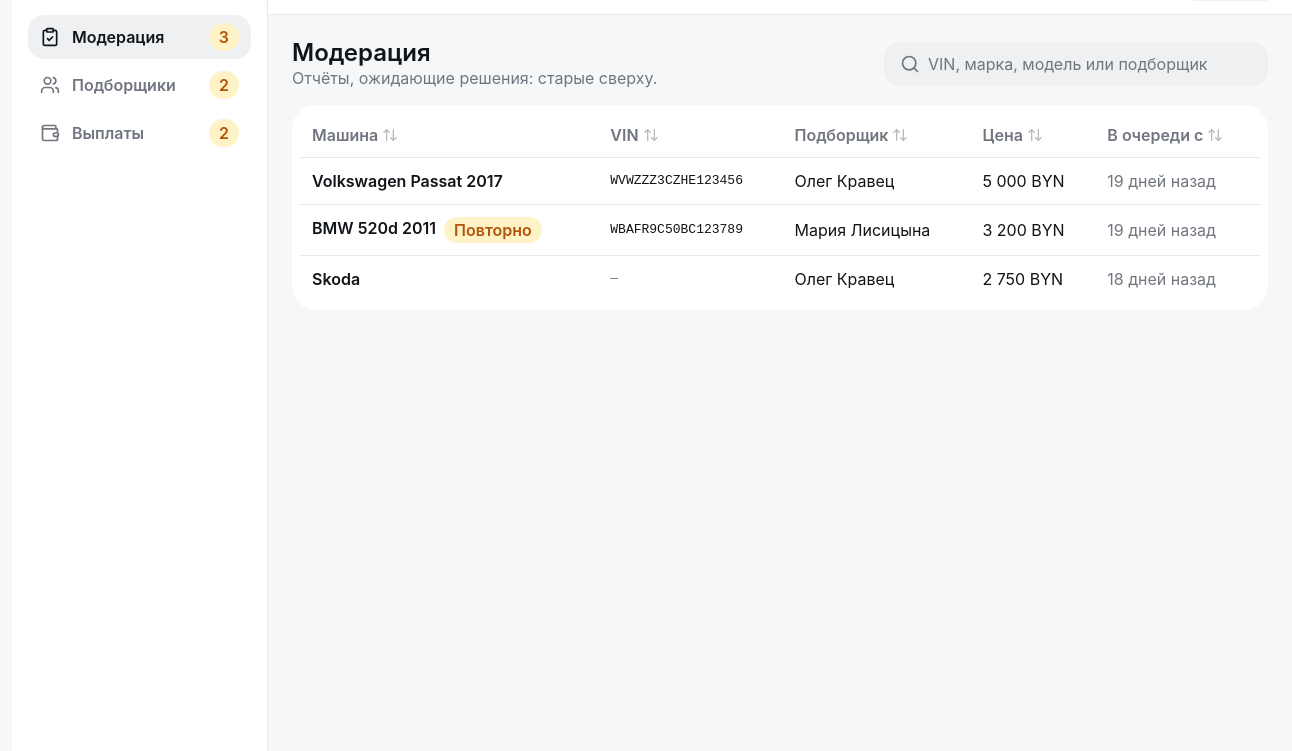
it: данные очереди › поиск находит и по имени подборщика
This screenshot has width=1292, height=751.
In the search field named "Поиск по очереди": (1076, 64) [884, 42, 1268, 86], type "лисицын"
(page scrolled)
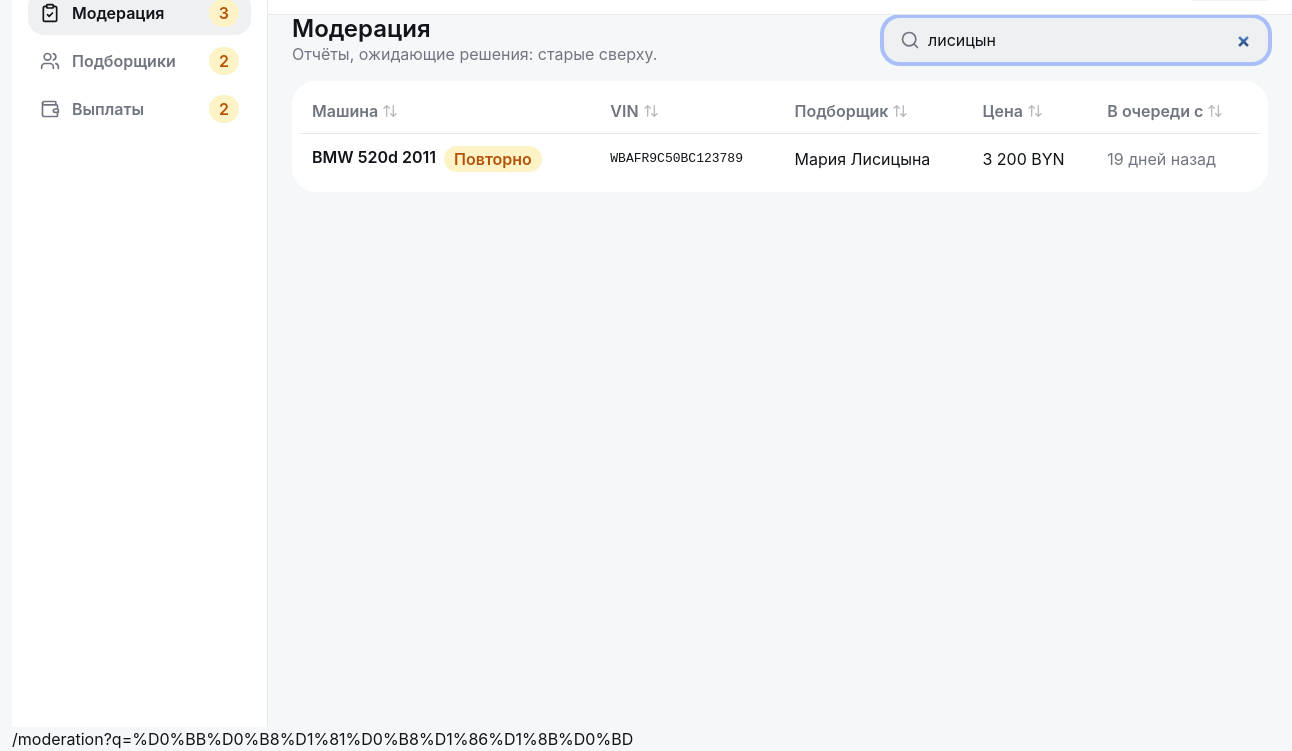
Expected: the text with test id "location" shows "q=%D0%BB%D0%B8%D1%81%D0%B8%D1%86%D1%8B%D0%BD", [12, 729, 633, 749]
